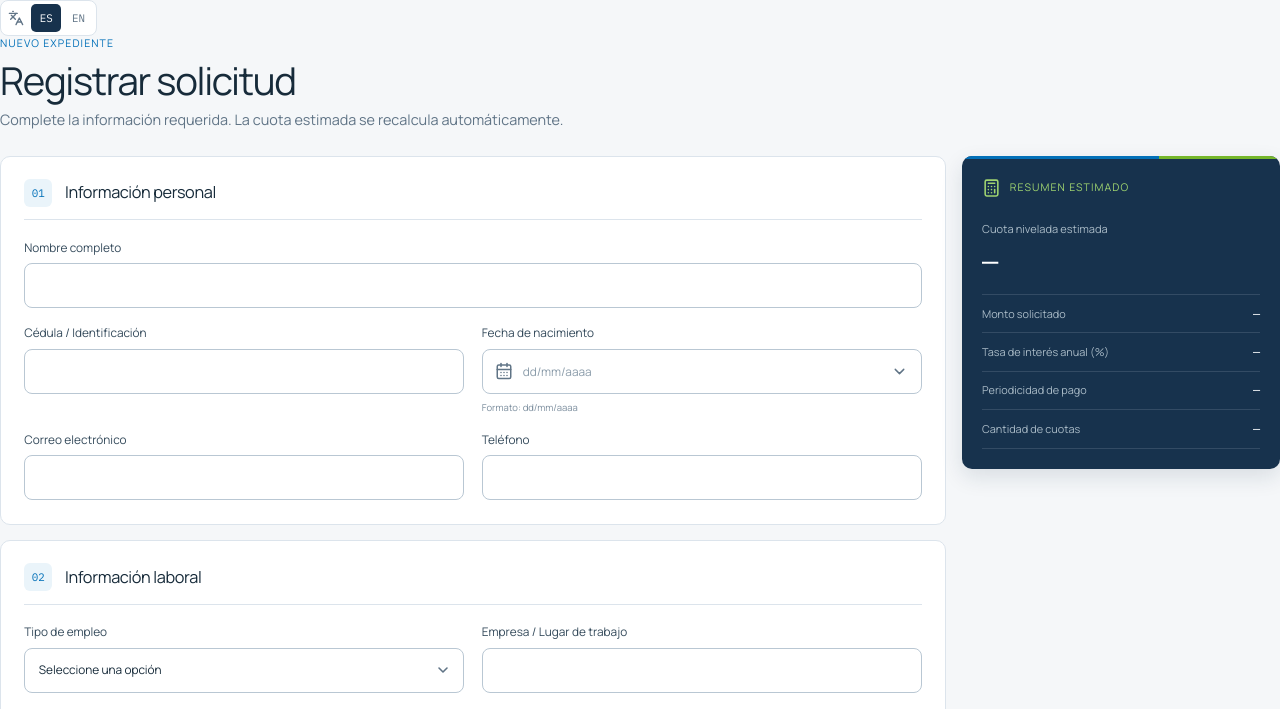
Scenario: validation errors clear after correction › shows the required birth date error in English when English is selected before submitting
Click the button "EN" at [79, 18], box [64, 4, 94, 32]
(page scrolled)
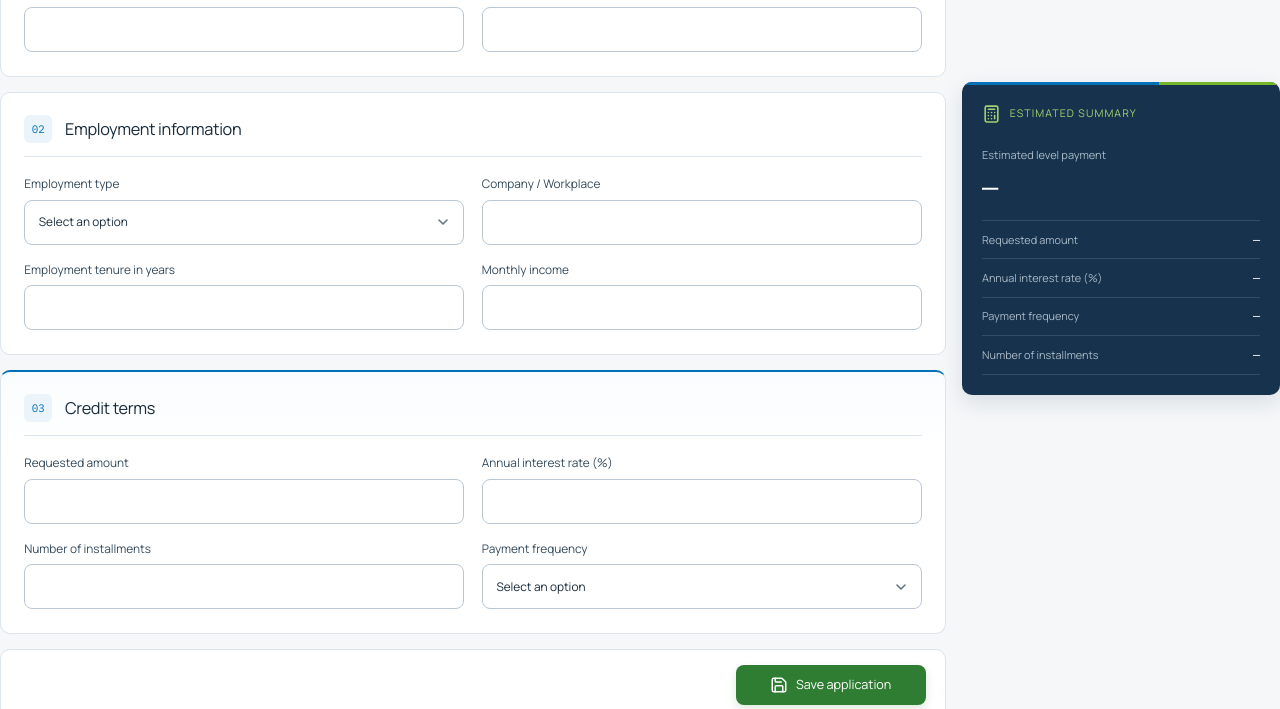
Click the button "Save application" at [831, 685], box [736, 665, 926, 705]
(page scrolled)
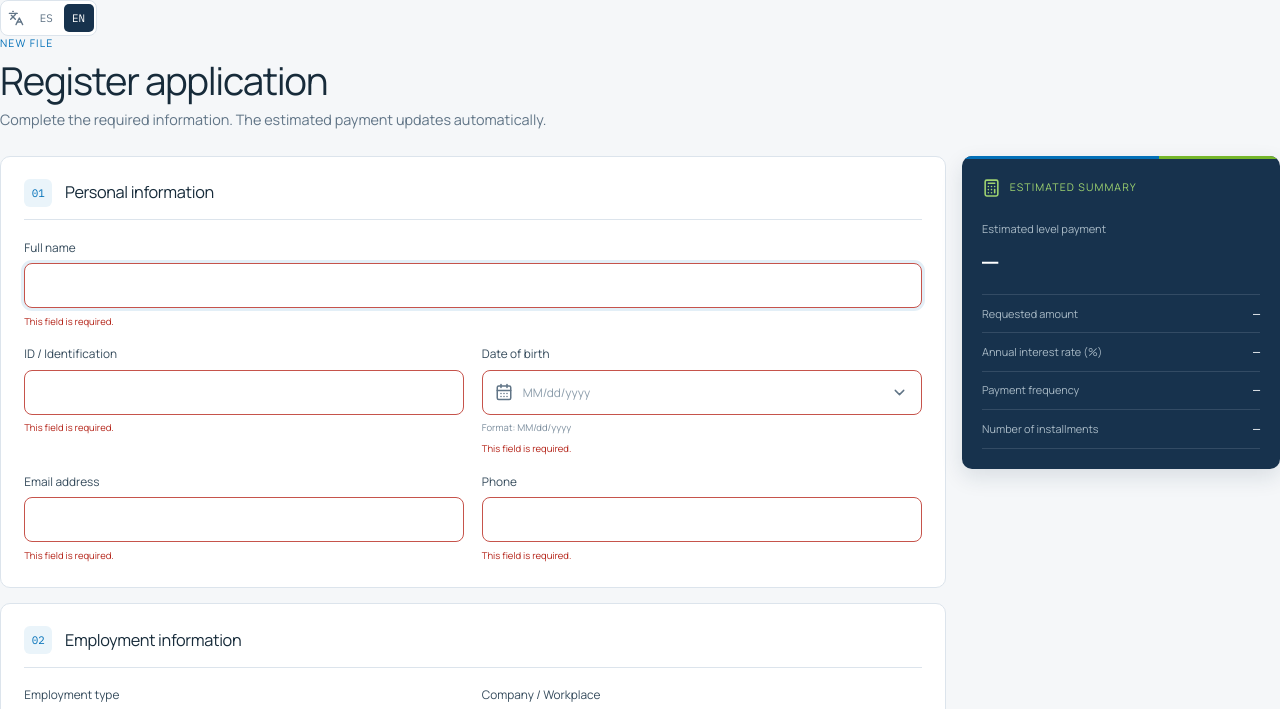
Check: the text with id "birth-date-error" reads "This field is required.", box [482, 442, 571, 455]
